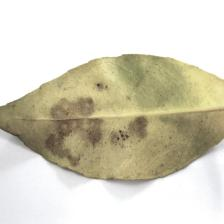black spot: (23, 95, 157, 166)
